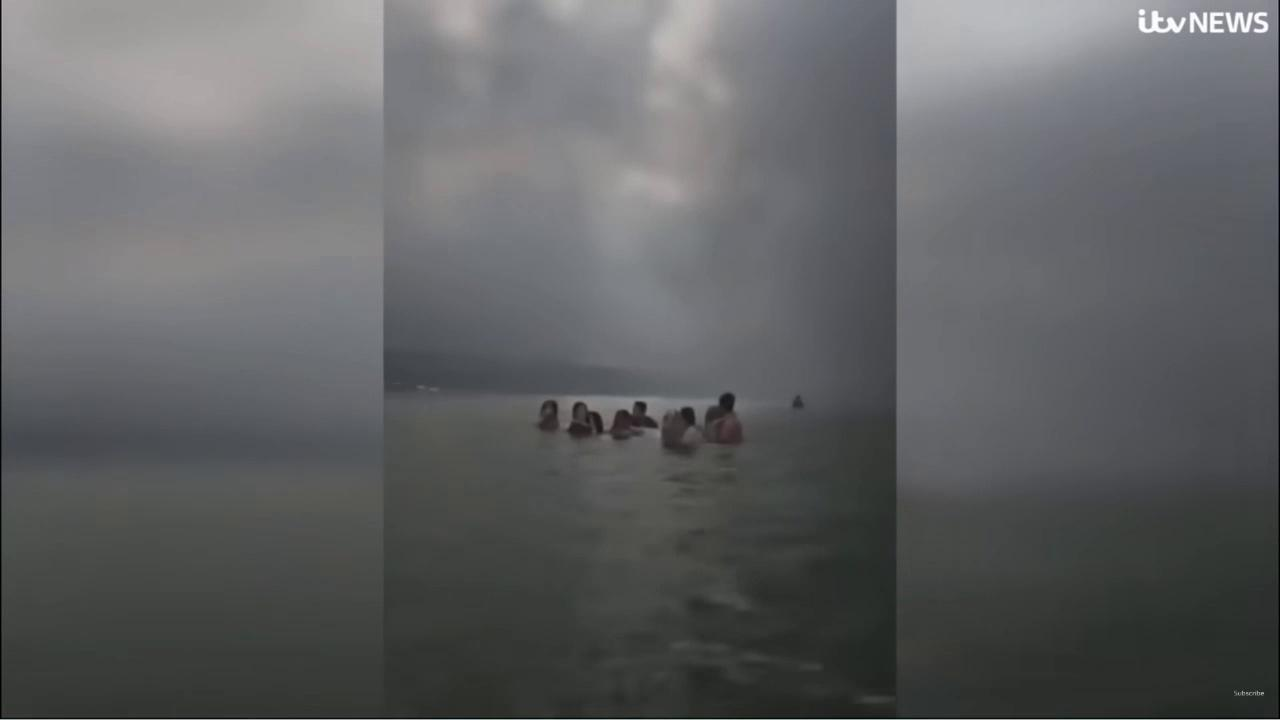smoke: (384, 0, 897, 396)
